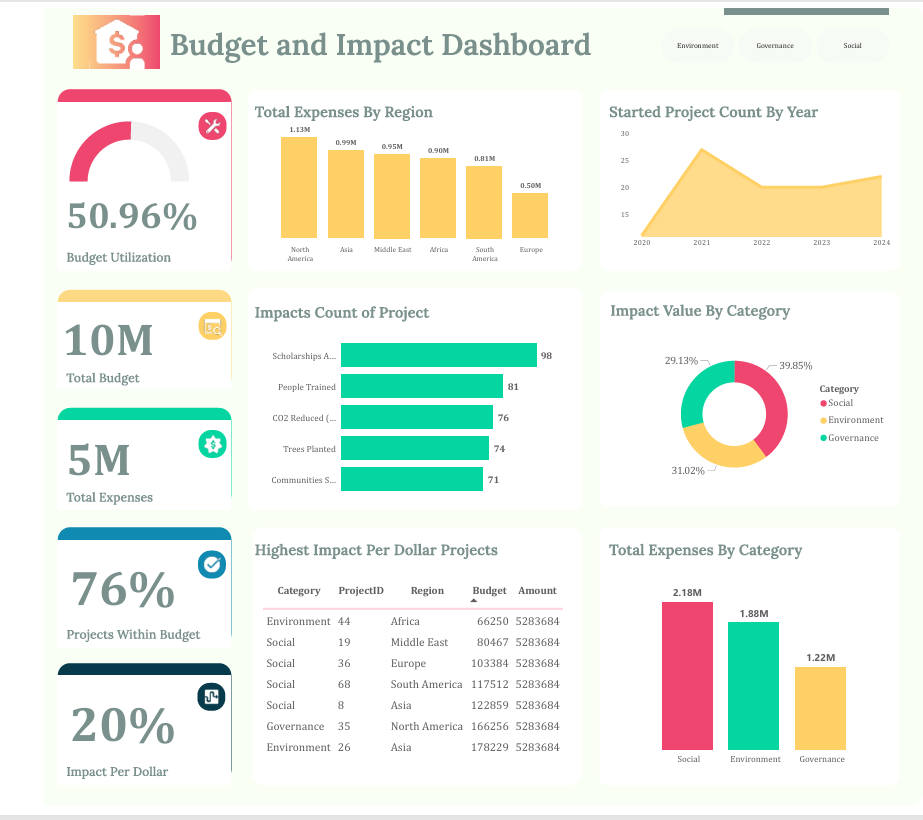

What the dashboard file says about the page in this screenshot:
{"tool":"powerbi","page":{"name":"Page 1","canvas":[1500,1300],"ordinal":0},"visuals":[{"type":"card","fields":{"Values":["_Measures.Budget_Utilization"]},"box":[84,266,260,132],"z":0},{"type":"gauge","fields":{"Y":["_Measures.Budget_Utilization"]},"box":[108.9,165.3,204.2,133.7],"z":1000},{"type":"card","fields":{"Values":["_Measures.Total_Budget"]},"box":[45,465.6,260,131.1],"z":2000},{"type":"card","fields":{"Values":["_Measures.Total_Expenses"]},"box":[30,660.9,260,131.8],"z":3000},{"type":"card","fields":{"Values":["_Measures.Projects_Within_Budget_%"]},"box":[70,852.9,260,165.7],"z":4000},{"type":"card","fields":{"Values":["_Measures.Impact_per_Budget"]},"box":[70,1071.4,260,165.7],"z":5000},{"type":"columnChart","fields":{"Category":["Dim_Projects.Region"],"Y":["_Measures.Total_Expenses"]},"box":[411.7,175,516.7,245],"z":6000},{"type":"areaChart","fields":{"Category":["Dim_Projects.Start Year"],"Y":["_Measures.Started_Projects_Count_by_Year"]},"box":[1003.3,190,447.8,207.8],"z":7000},{"type":"clusteredBarChart","fields":{"Category":["Dim_ImpactsMetric.ImpactMetric"],"Y":["_Measures.Projects_Count_Impact"]},"box":[421.4,511.4,480,300],"z":8000},{"type":"donutChart","fields":{"Category":["Dim_Projects.Category"],"Y":["Sum(Fact_Impacts.Value)"]},"box":[1050,510,400,300],"z":9000},{"type":"tableEx","fields":{"Values":["Highest_Impact_Projects.Category","Highest_Impact_Projects.ProjectID","Highest_Impact_Projects.Region","Sum(Highest_Impact_Projects.Budget)","Sum(Fact_Expenditures.Amount)"]},"box":[422.5,926.2,505,307.5],"z":10000},{"type":"clusteredColumnChart","fields":{"Category":["Dim_Projects.Category"],"Y":["_Measures.Total_Expenses"]},"box":[1028,922,400,316],"z":11000},{"type":"advancedSlicerVisual","fields":{"Values":["Dim_Projects.Category"]},"box":[1070,27.5,381.2,66.2],"z":12000}]}

Visuals, with their boxes in screenshot pixels (x1, y1, x2, y2), scaled from the page's 1500x1300 canvas onto the 923x820 screenshot:
card - _Measures.Budget_Utilization: bbox(52, 168, 212, 251)
gauge - _Measures.Budget_Utilization: bbox(67, 104, 193, 189)
card - _Measures.Total_Budget: bbox(28, 294, 188, 376)
card - _Measures.Total_Expenses: bbox(18, 417, 178, 500)
card - _Measures.Projects_Within_Budget_%: bbox(43, 538, 203, 643)
card - _Measures.Impact_per_Budget: bbox(43, 676, 203, 780)
columnChart - Dim_Projects.Region x _Measures.Total_Expenses: bbox(253, 110, 571, 265)
areaChart - Dim_Projects.Start Year x _Measures.Started_Projects_Count_by_Year: bbox(617, 120, 893, 251)
clusteredBarChart - Dim_ImpactsMetric.ImpactMetric x _Measures.Projects_Count_Impact: bbox(259, 323, 555, 512)
donutChart - Dim_Projects.Category x Sum(Fact_Impacts.Value): bbox(646, 322, 892, 511)
tableEx - Highest_Impact_Projects.Category x Highest_Impact_Projects.ProjectID: bbox(260, 584, 571, 778)
clusteredColumnChart - Dim_Projects.Category x _Measures.Total_Expenses: bbox(633, 582, 879, 781)
advancedSlicerVisual - Dim_Projects.Category: bbox(658, 17, 893, 59)
